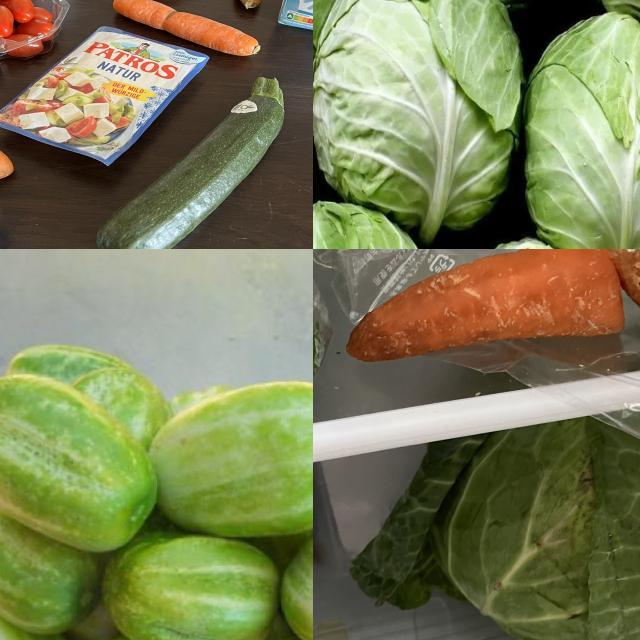cabbage: (350, 397, 640, 640), (316, 1, 525, 244), (523, 8, 640, 250), (314, 198, 444, 250)
carrot: (346, 250, 629, 365), (104, 1, 274, 65), (227, 1, 280, 23)
cucumber: (1, 366, 158, 555), (138, 384, 314, 541), (93, 539, 286, 640)
zucchini: (107, 70, 303, 250)
